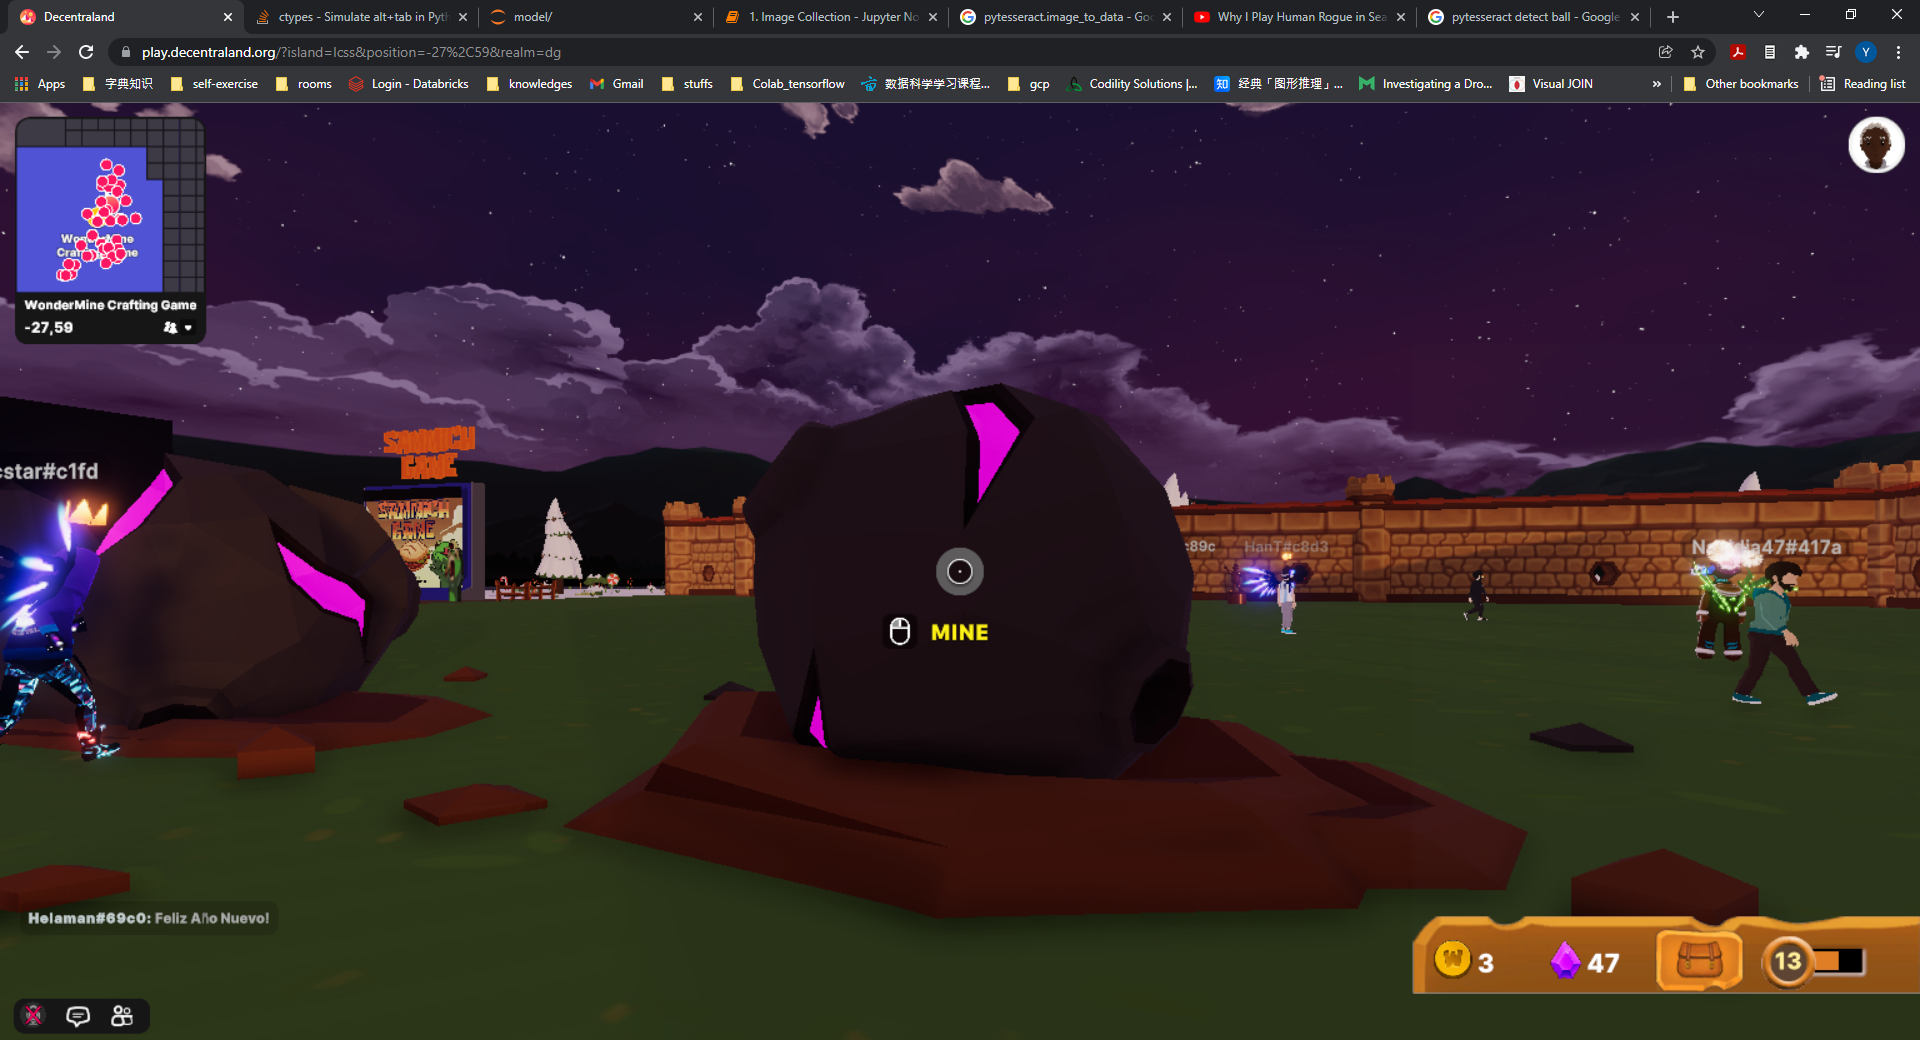black_ball: (681, 361, 1236, 827)
